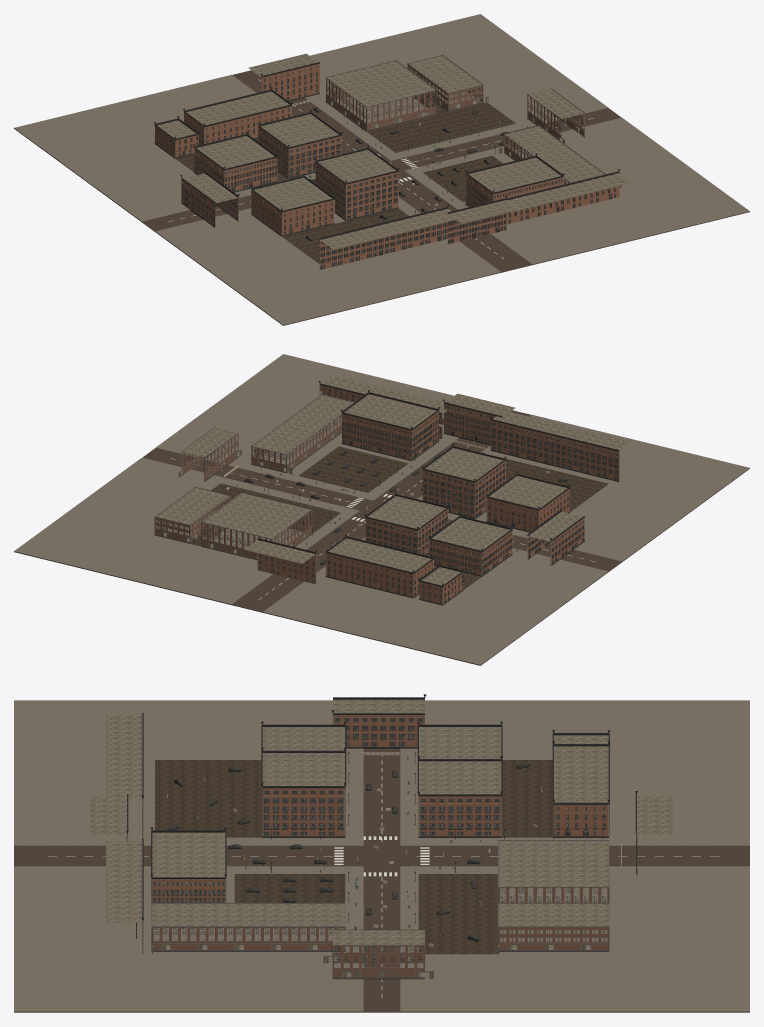
Rendered from downtown.glb.
3 renders of one model, top to bottom at view 1: azimuth 30°, elevation 25°; view 2: azimuth 150°, elevation 25°; view 3: azimuth 270°, elevation 25°, orthographic. The views are drawn at different scales.
Visible parts, largest first — view 1: sidewalk, roof, modular_urban_apartments_facade_plaster, road, modular_urban_apartments_facade_objects, yard, modular_urban_apartments_facade_glass, modular_urban_apartments_facade_trim_02, modular_factory_facade_brick, modular_factory_facade_trim_01, modular_urban_apartments_facade_trim_01, modular_factory_facade_windows (+1 smaller); view 2: sidewalk, roof, modular_urban_apartments_facade_plaster, modular_urban_apartments_facade_objects, road, modular_urban_apartments_facade_glass, yard, modular_urban_apartments_facade_trim_02, modular_factory_facade_brick, modular_urban_apartments_facade_trim_01, modular_factory_facade_trim_01, modular_factory_facade_windows (+1 smaller); view 3: sidewalk, roof, yard, road, modular_urban_apartments_facade_plaster, modular_factory_facade_brick, modular_urban_apartments_facade_objects, modular_urban_apartments_facade_trim_02, modular_urban_apartments_facade_glass, modular_factory_facade_trim_01, modular_factory_facade_windows, covered_car.001 (+2 smaller).
Boxes of the visible parts, x1=… form: sidewalk: x1=14, y1=14, x2=749, y2=325; roof: x1=155, y1=53, x2=632, y2=249; modular_urban_apartments_facade_plaster: x1=155, y1=63, x2=621, y2=269; road: x1=14, y1=70, x2=749, y2=325; modular_urban_apartments_facade_objects: x1=156, y1=71, x2=621, y2=269; yard: x1=176, y1=94, x2=515, y2=264; modular_urban_apartments_facade_glass: x1=157, y1=66, x2=620, y2=268; modular_urban_apartments_facade_trim_02: x1=154, y1=62, x2=620, y2=239; modular_factory_facade_brick: x1=326, y1=64, x2=603, y2=199; modular_factory_facade_trim_01: x1=325, y1=55, x2=609, y2=203; modular_urban_apartments_facade_trim_01: x1=154, y1=68, x2=610, y2=269; modular_factory_facade_windows: x1=327, y1=67, x2=583, y2=183; sidewalk: x1=14, y1=354, x2=749, y2=665; roof: x1=154, y1=375, x2=632, y2=605; modular_urban_apartments_facade_plaster: x1=257, y1=385, x2=619, y2=603; modular_urban_apartments_facade_objects: x1=259, y1=387, x2=618, y2=603; road: x1=14, y1=410, x2=749, y2=665; modular_urban_apartments_facade_glass: x1=260, y1=388, x2=617, y2=603; yard: x1=190, y1=446, x2=608, y2=589; modular_urban_apartments_facade_trim_02: x1=257, y1=380, x2=619, y2=587; modular_factory_facade_brick: x1=155, y1=415, x2=341, y2=557; modular_urban_apartments_facade_trim_01: x1=325, y1=408, x2=618, y2=605; modular_factory_facade_trim_01: x1=154, y1=394, x2=354, y2=560; modular_factory_facade_windows: x1=158, y1=415, x2=341, y2=550; sidewalk: x1=14, y1=700, x2=749, y2=1011; roof: x1=90, y1=699, x2=673, y2=978; yard: x1=155, y1=760, x2=553, y2=954; road: x1=14, y1=719, x2=749, y2=1012; modular_urban_apartments_facade_plaster: x1=152, y1=715, x2=636, y2=902; modular_factory_facade_brick: x1=152, y1=887, x2=608, y2=977; modular_urban_apartments_facade_objects: x1=126, y1=718, x2=637, y2=952; modular_urban_apartments_facade_trim_02: x1=126, y1=694, x2=637, y2=921; modular_urban_apartments_facade_glass: x1=153, y1=718, x2=605, y2=902; modular_factory_facade_trim_01: x1=151, y1=840, x2=609, y2=979; modular_factory_facade_windows: x1=152, y1=887, x2=606, y2=972; covered_car.001: x1=168, y1=762, x2=529, y2=941.
Size of the model in its own units: 240 by 20.08 by 240.
Materials: 28 (27 with a texture image).
